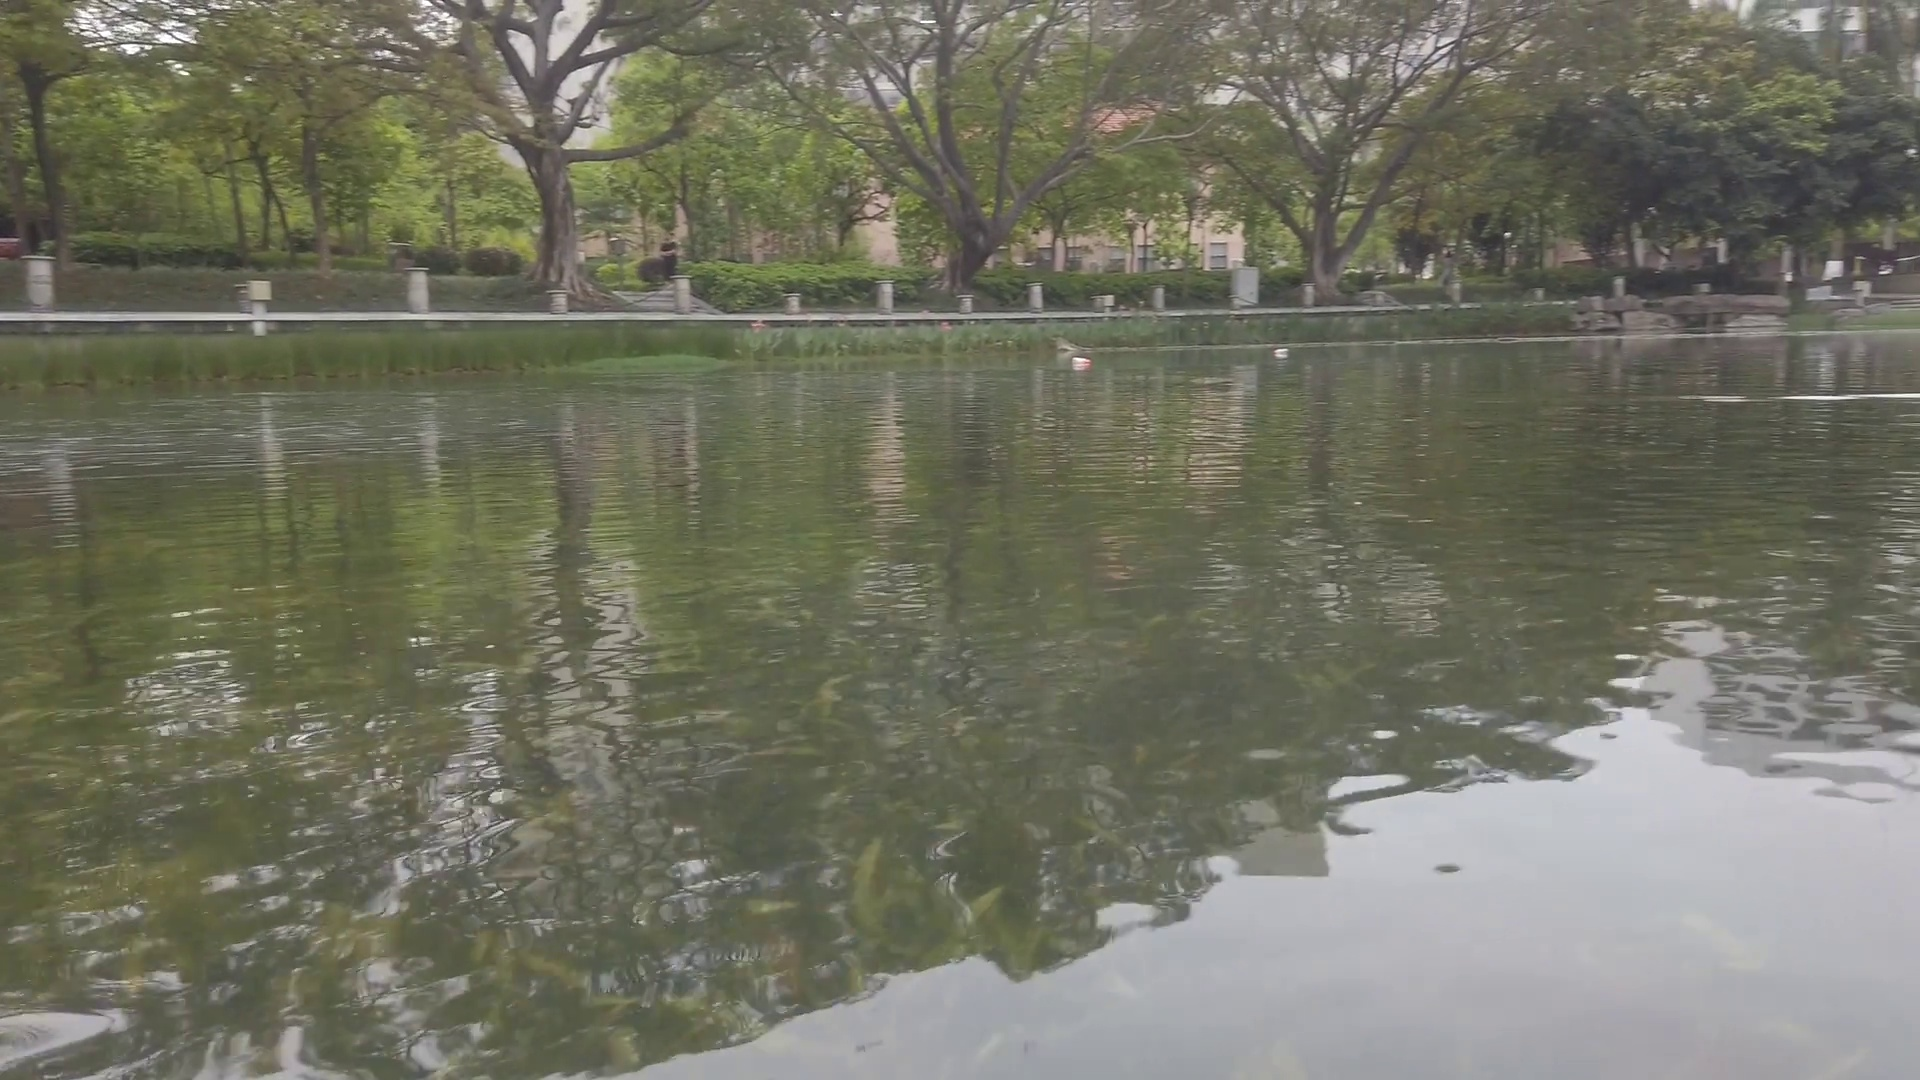bottle: (1072, 353, 1093, 368), (1274, 347, 1290, 356)
